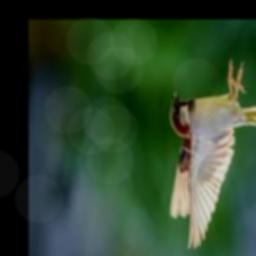Sparrow: (167, 59, 256, 249)
